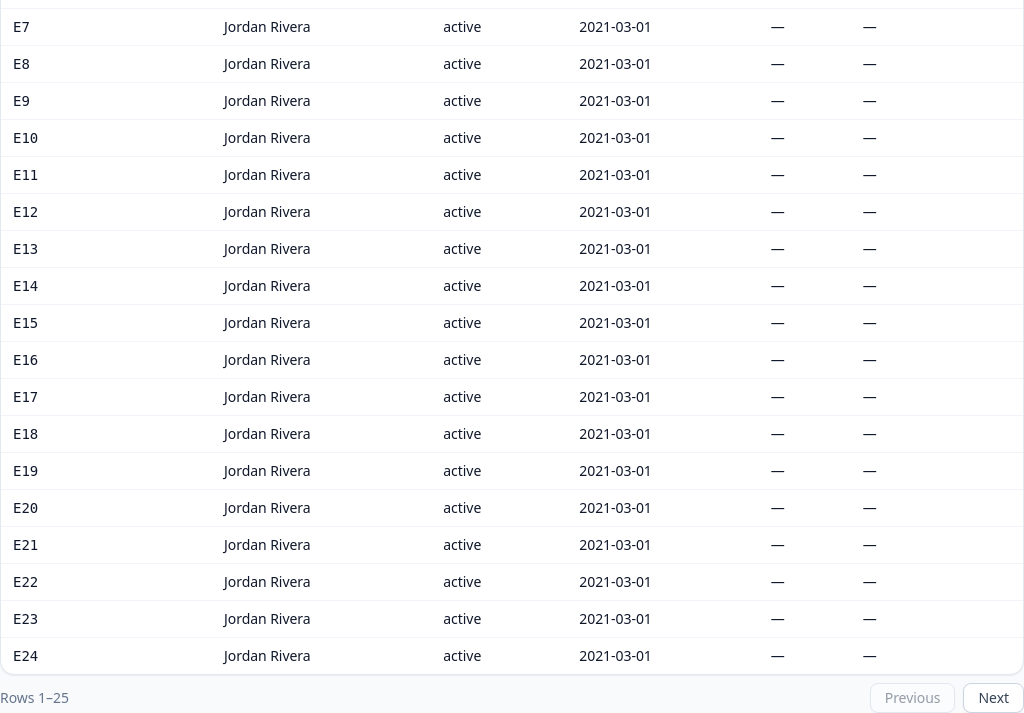
Data Explorer › pages with Previous / Next using limit and offset
(page scrolled)
Click the button "Next". click: (994, 698)
box: [964,682,1023,712]
(page scrolled)
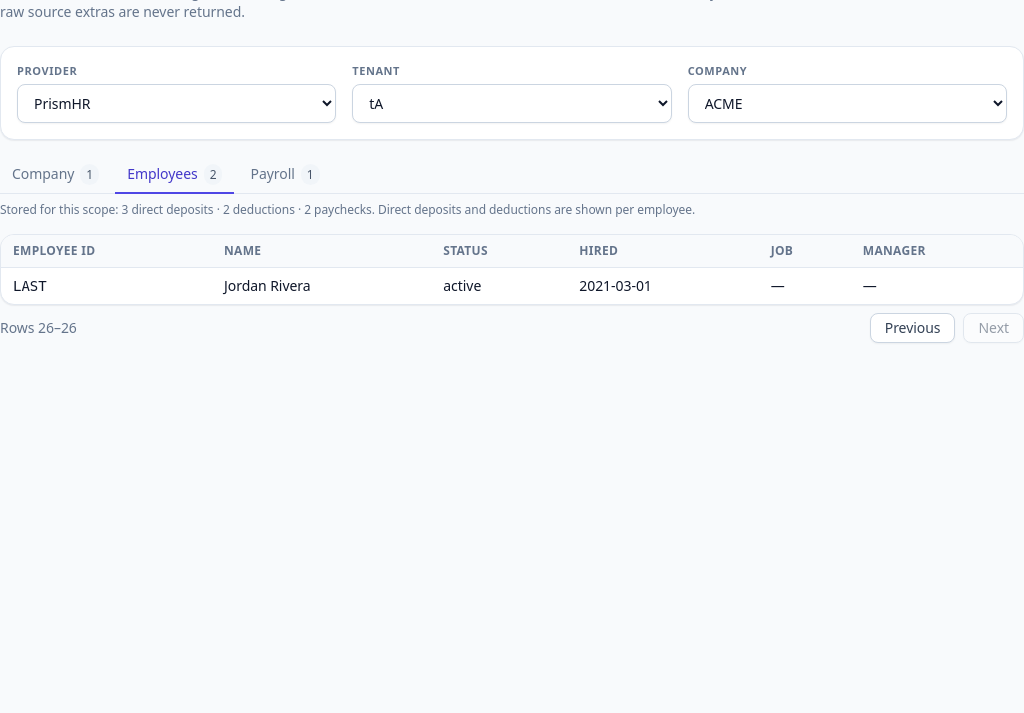
Check: the text "LAST" is shown, box [13,278,46,294]
Check: the button "Next" is disabled, box [964,312,1023,342]
